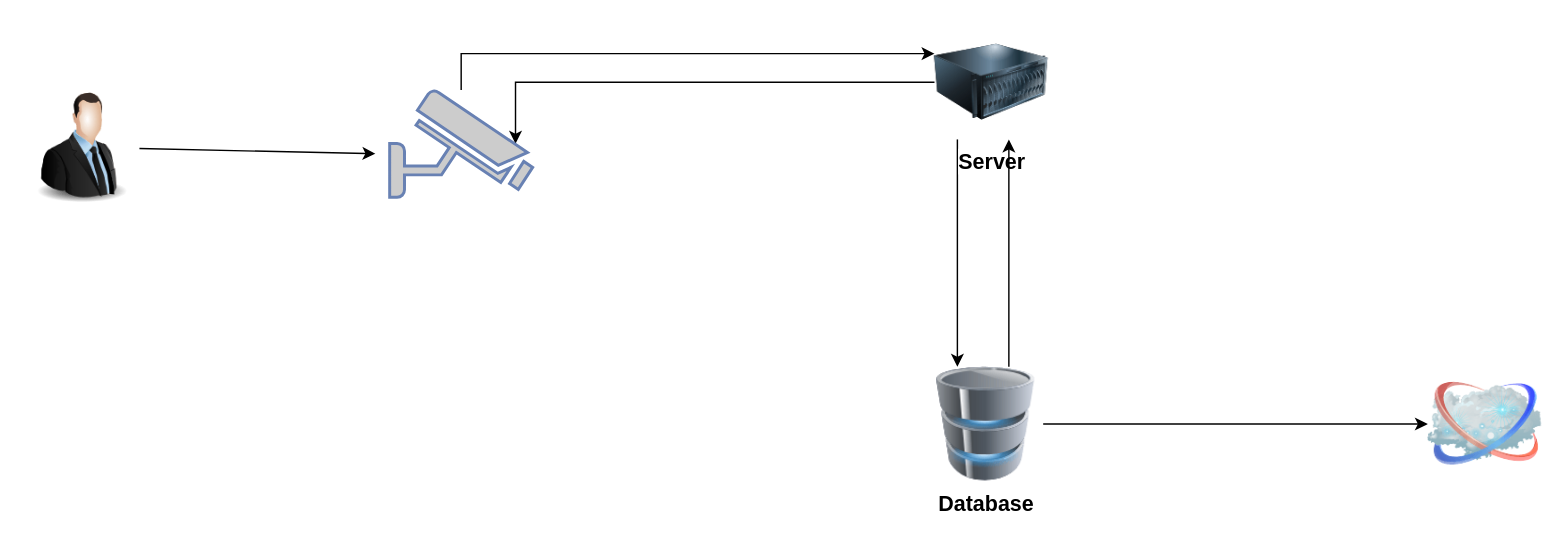
Image size: 1566x541. Some labels were removed from this diagram. The centre of each missing label's shape, as x and y in pixels:
"Rasprry pi" goes at point (460, 143).
"Web app" goes at point (1484, 423).
